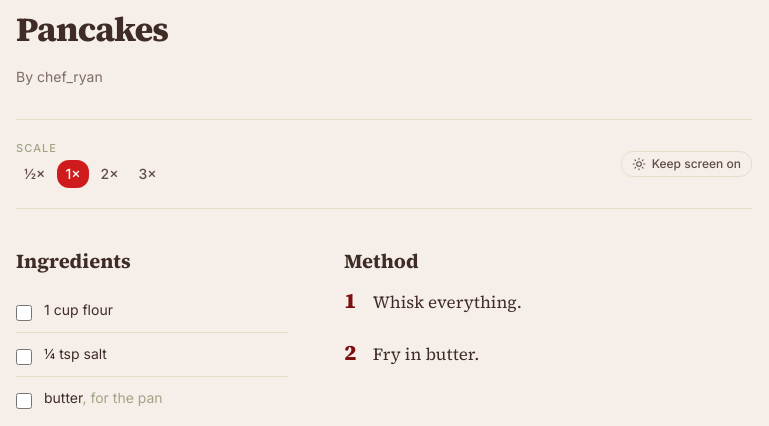
Test case: scaling › offers multiples for a recipe with no servings
Click the button "2×": (110, 174) [93, 160, 127, 188]
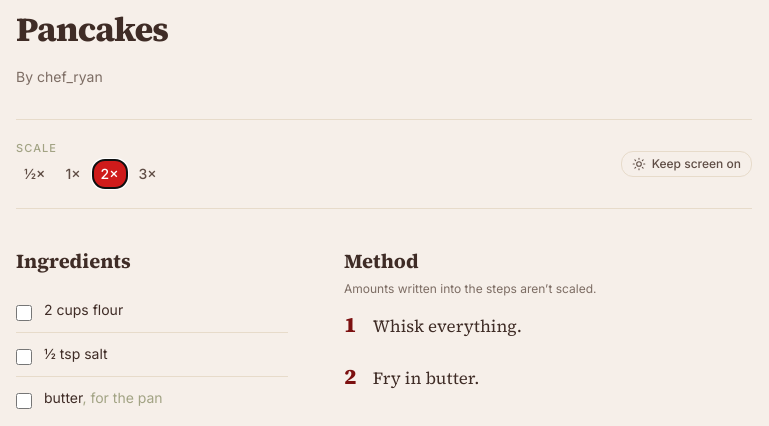
Expected: the text "2 cups flour" is shown, [44, 299, 123, 322]
Expected: the text "½ tsp salt" is shown, [44, 343, 108, 366]
